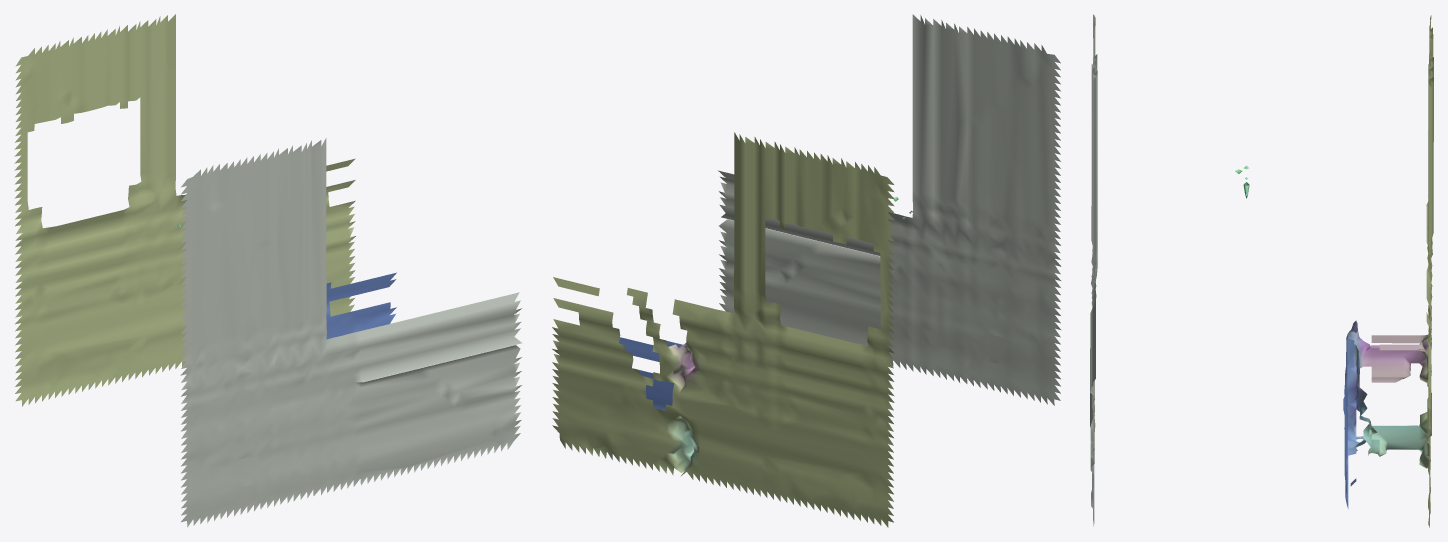
Rendered from tile_7e4ccbd5fe0e_0_0_0_0_lod1.glb.
3 views of the same model, side by side, from view 1: azimuth 30°, elevation 25°; view 2: azimuth 150°, elevation 25°; view 3: azimuth 270°, elevation 25° (orthographic).
Size of the model in its own units: 4.08 by 4.08 by 3.52.
